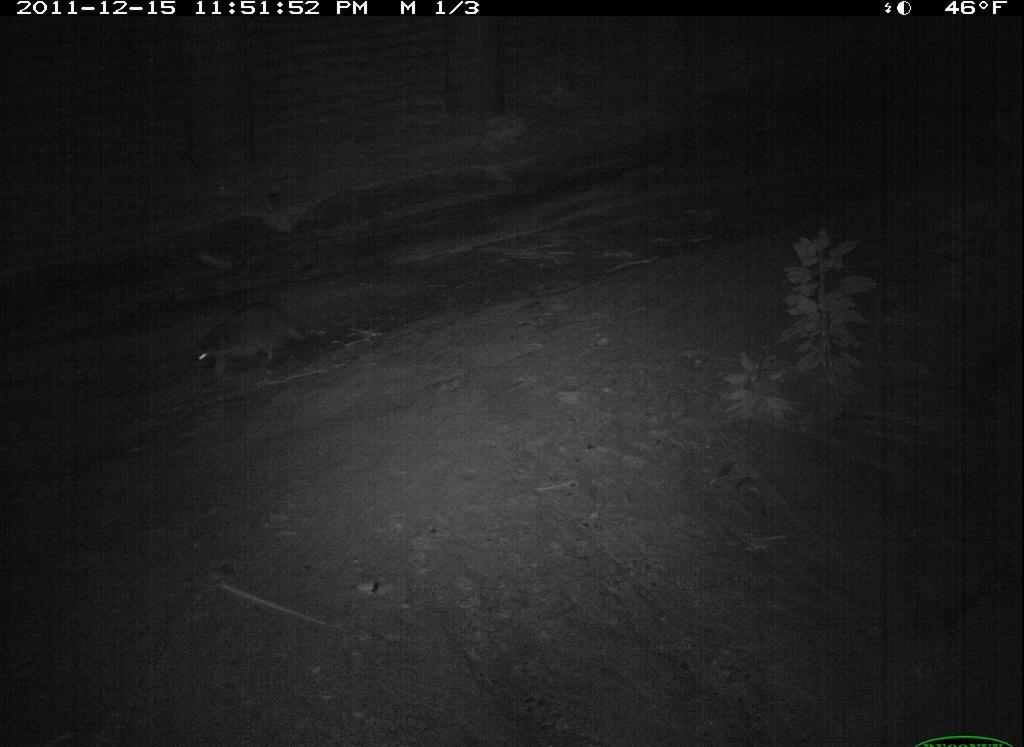raccoon: (171, 286, 324, 395)
